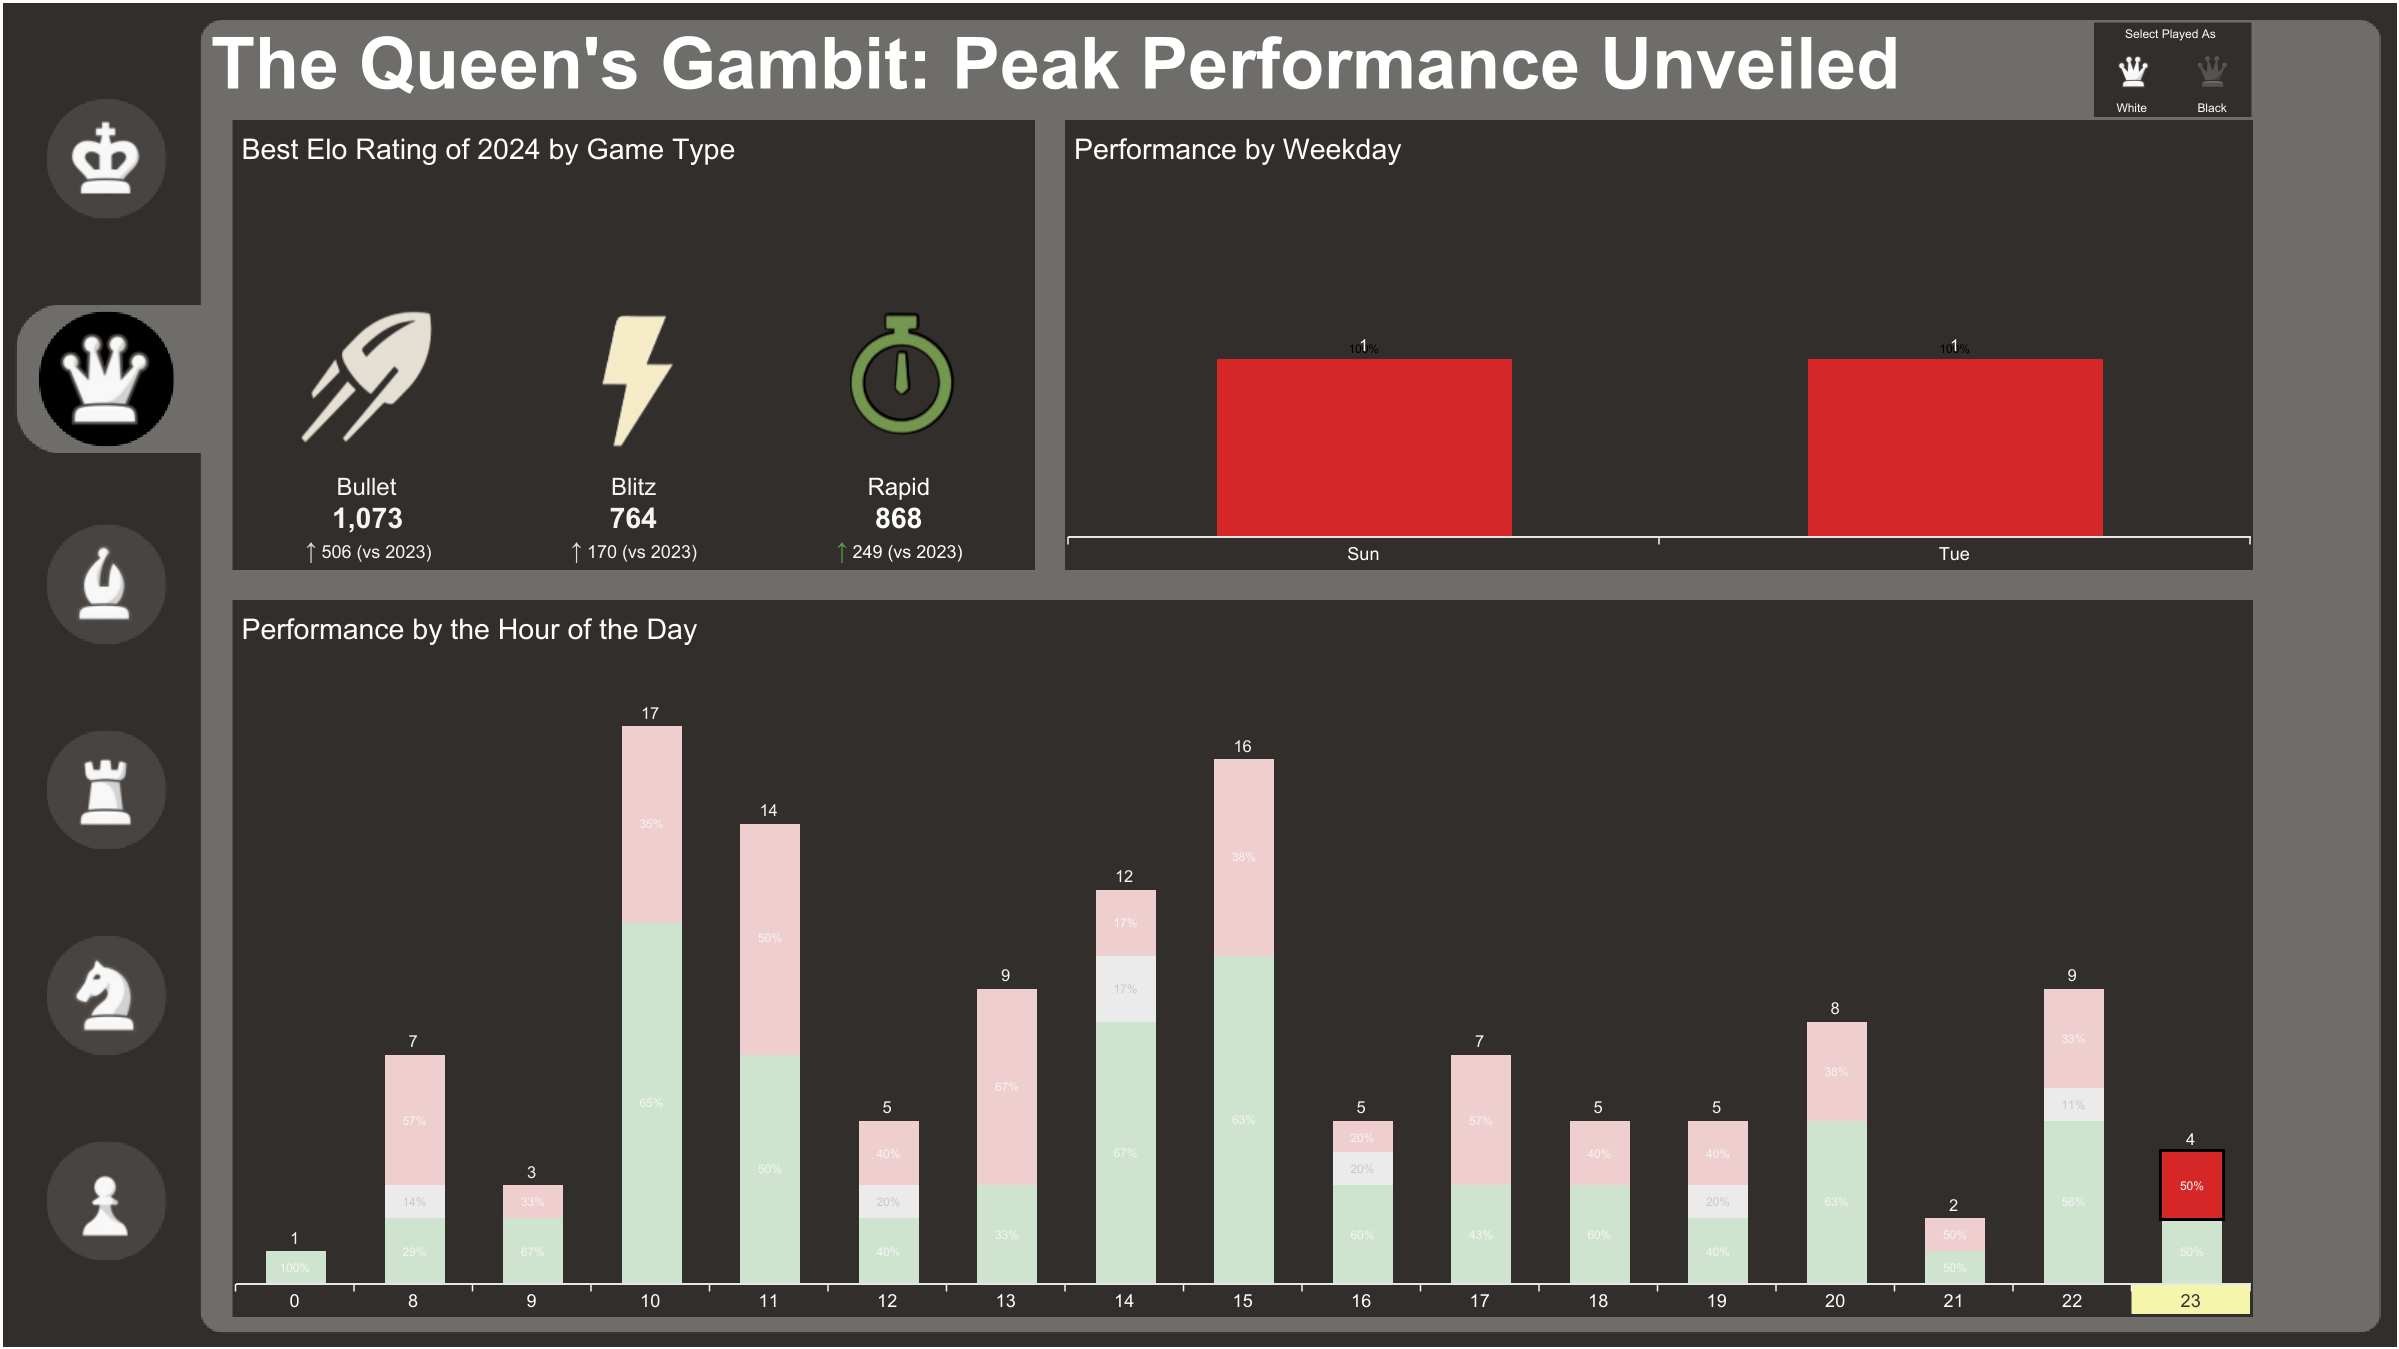

The dashboard page shown, as its layout file describes it:
{"tool":"tableau","page":{"name":"Queen","canvas":[1600,900],"ordinal":5},"visuals":[{"type":"image","param":"Image/Nav - 1 (2).png","box":[2,2,1596,896]},{"type":"text","box":[1397,7,100,30]},{"type":"text","box":[138,8,1158,68]},{"type":"worksheet","title":"Played As Filter","mark":"Shape","cols":["Played_as"],"box":[1396,15,105,63]},{"type":"dashboard-object","box":[41,76,60,60]},{"type":"worksheet","title":"Rating by Type","mark":"Shape","cols":["Game_Type"],"box":[155,80,535,300]},{"type":"worksheet","title":"Performance by Weekday","mark":"Automatic","rows":["Calculation_4287567616097128449","Calculation_4287567616097128449"],"cols":["Date & Time"],"box":[710,80,792,300]},{"type":"image","param":"Image/Queen_W.png","box":[33,215,75,75]},{"type":"dashboard-object","box":[41,359,60,60]},{"type":"worksheet","title":"Performance by the hour","mark":"Automatic","rows":["Calculation_4287567616097128449","Calculation_4287567616097128449"],"cols":["Date & Time"],"box":[155,400,1347,478]},{"type":"image","param":"Image/QueenText.png","box":[1104,410,420,414]},{"type":"dashboard-object","box":[41,496,60,60]},{"type":"dashboard-object","box":[41,633,60,60]},{"type":"dashboard-object","box":[41,770,60,60]},{"type":"dashboard-object","box":[1506,800,79,86]}]}

Visuals, with their boxes in screenshot pixels (x1, y1, x2, y2), scaled from the page's 1600x900 canvas onto the 2399x1349 screenshot:
image: (3,3,2396,1346)
text: (2095,10,2245,55)
text: (207,12,1943,114)
"Played As Filter" worksheet (Shape marks): (2093,22,2251,117)
dashboard-object: (61,114,151,204)
"Rating by Type" worksheet (Shape marks): (232,120,1035,570)
"Performance by Weekday" worksheet: (1065,120,2252,570)
image: (49,322,162,435)
dashboard-object: (61,538,151,628)
"Performance by the hour" worksheet: (232,600,2252,1316)
image: (1655,615,2285,1235)
dashboard-object: (61,743,151,833)
dashboard-object: (61,949,151,1039)
dashboard-object: (61,1154,151,1244)
dashboard-object: (2258,1199,2377,1328)
